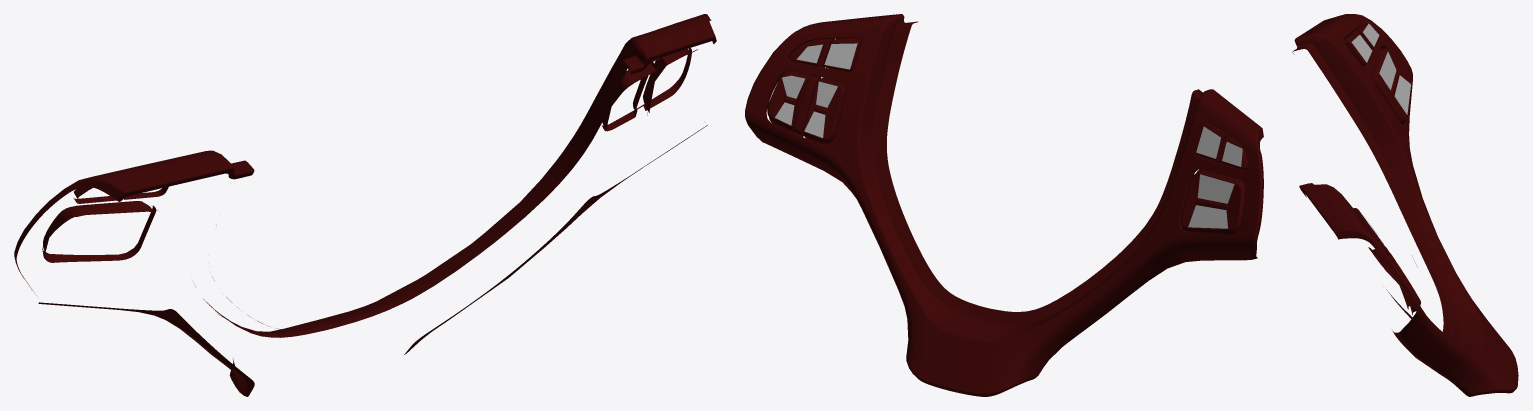
The model's file is TOYOTA_URBAN_CRUISER_PRE_HIG_IN_STEERING_CRUISE_CONTROL_MESH.glb.
3 views of the same model, side by side, from view 1: azimuth 30°, elevation 25°; view 2: azimuth 150°, elevation 25°; view 3: azimuth 270°, elevation 25° (orthographic). The views are drawn at different scales.
Visible parts, largest first — view 1: TOYOTA_URBAN_CRUISER_PRE_HIG_IN_STEERING_CRUISE_CONTROL_MESH; view 2: TOYOTA_URBAN_CRUISER_PRE_HIG_IN_STEERING_CRUISE_CONTROL_MESH; view 3: TOYOTA_URBAN_CRUISER_PRE_HIG_IN_STEERING_CRUISE_CONTROL_MESH.
Boxes of the visible parts, x1,y1,x2,y2 form: TOYOTA_URBAN_CRUISER_PRE_HIG_IN_STEERING_CRUISE_CONTROL_MESH: (14,14,716,396); TOYOTA_URBAN_CRUISER_PRE_HIG_IN_STEERING_CRUISE_CONTROL_MESH: (745,14,1263,396); TOYOTA_URBAN_CRUISER_PRE_HIG_IN_STEERING_CRUISE_CONTROL_MESH: (1292,14,1518,396).
Bounding box in the file's own units: 0.2924 × 0.1474 × 0.1115.
